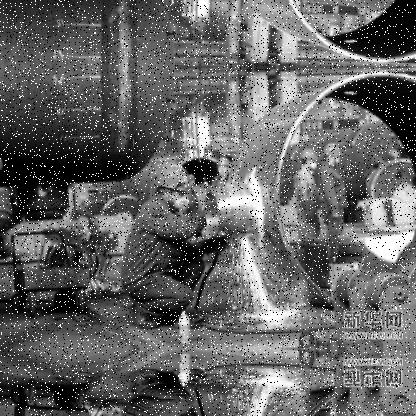Helmet: (154, 162, 198, 212), (319, 138, 346, 171), (294, 148, 320, 176), (212, 158, 232, 180)
